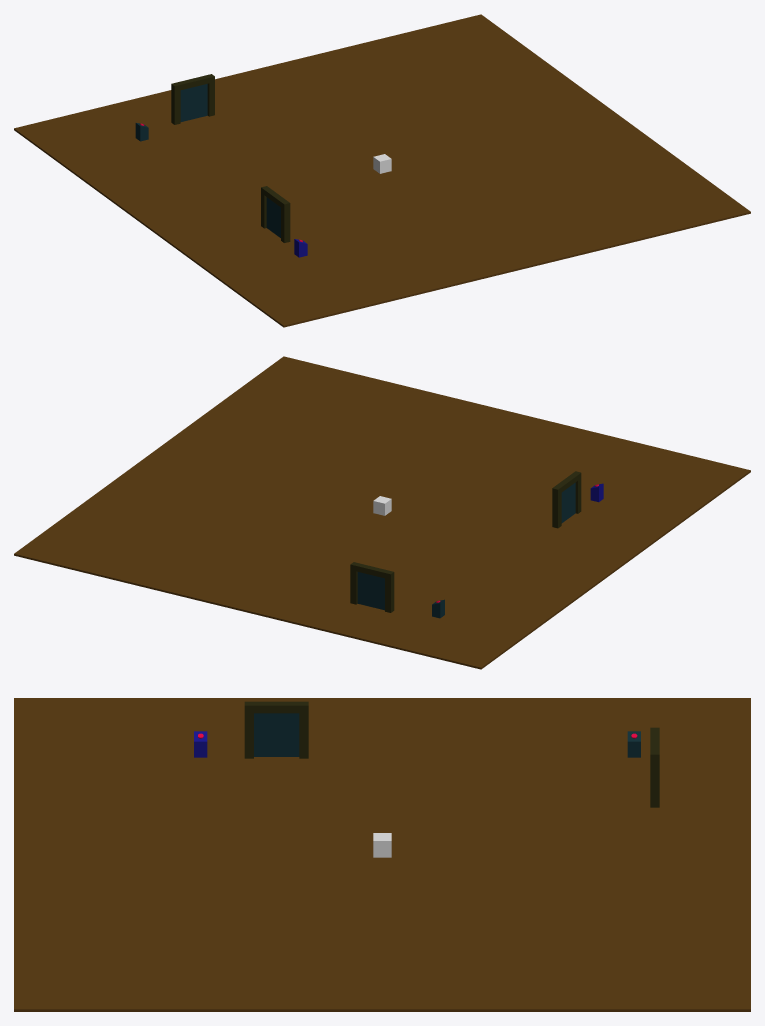
File: testMap.glb
3 views of the same model, one above another, from view 1: azimuth 30°, elevation 25°; view 2: azimuth 150°, elevation 25°; view 3: azimuth 270°, elevation 25° (orthographic). The views are drawn at different scales.
Parts seen in each view (by area): view 1: Cube, Cube.004, dor_2, Cube.005; view 2: Cube, Cube.004, dor_2, Cube.005; view 3: Cube, dor_1, Cube.005, Cube.004.
Part boxes in pixels (left/top/right/bottom): Cube: left=14, top=14, right=750, bottom=327; Cube.004: left=171, top=74, right=214, bottom=124; dor_2: left=180, top=84, right=207, bottom=121; Cube.005: left=261, top=186, right=290, bottom=242; Cube: left=14, top=356, right=750, bottom=669; Cube.004: left=350, top=562, right=394, bottom=612; dor_2: left=357, top=572, right=384, bottom=610; Cube.005: left=552, top=471, right=581, bottom=528; Cube: left=14, top=698, right=750, bottom=1011; dor_1: left=254, top=713, right=299, bottom=756; Cube.005: left=244, top=701, right=308, bottom=758; Cube.004: left=650, top=727, right=659, bottom=807.
Size of the model in its own units: 80 by 6.64 by 80.
